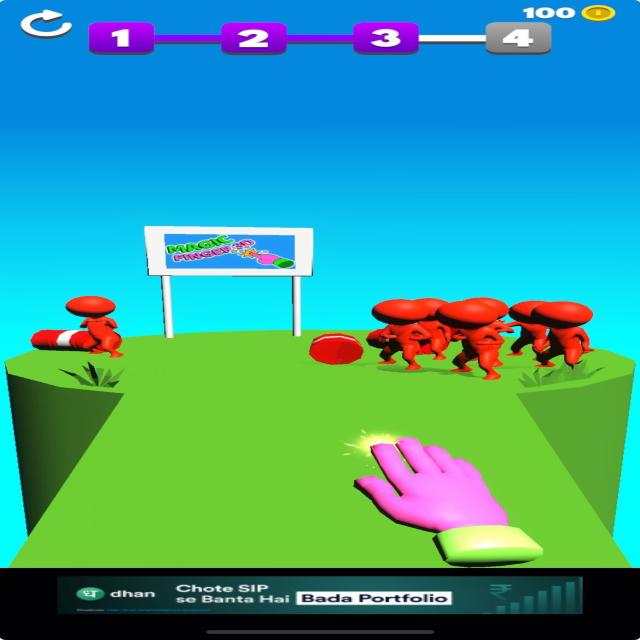billboard: (150, 228, 311, 274)
